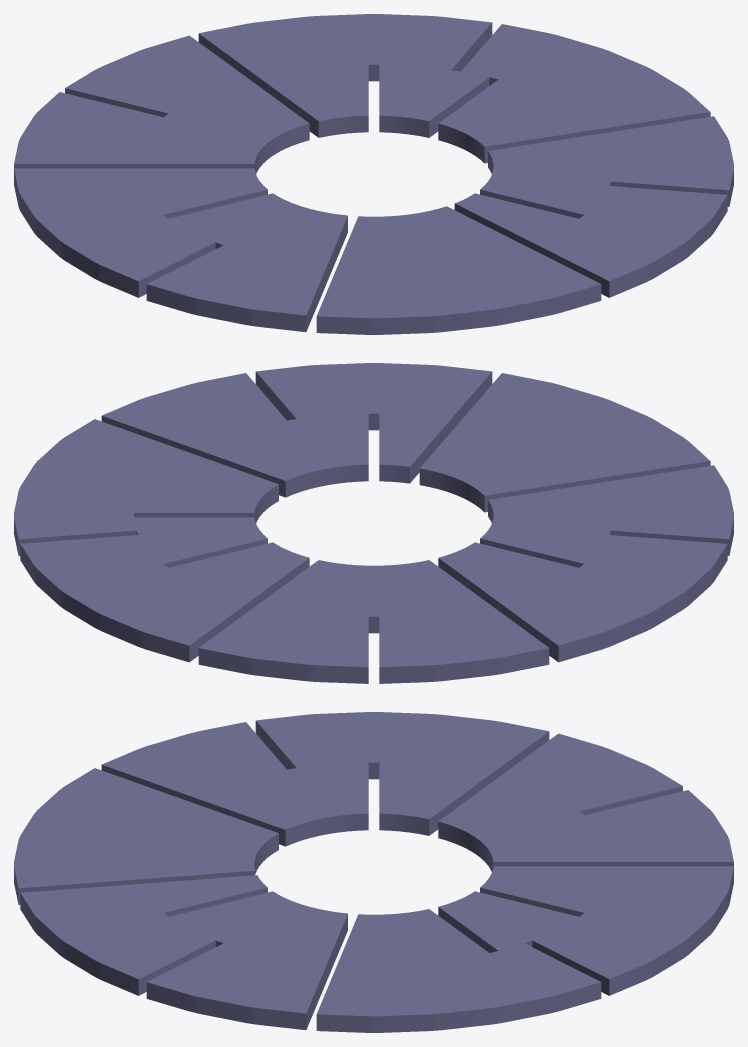
The model's file is InnerRing.fbx.
The picture shows the model from 3 angles, top to bottom: view 1: azimuth 30°, elevation 25°; view 2: azimuth 150°, elevation 25°; view 3: azimuth 270°, elevation 25°; orthographic projection.
Visible parts, largest first — view 1: InnerRing; view 2: InnerRing; view 3: InnerRing.
Part boxes in pixels (x1,y1,x2,y2): InnerRing: [14, 14, 733, 334]; InnerRing: [14, 363, 733, 683]; InnerRing: [14, 712, 733, 1032].
Bounding box in the file's own units: 85.71 × 2.19 × 85.71.
